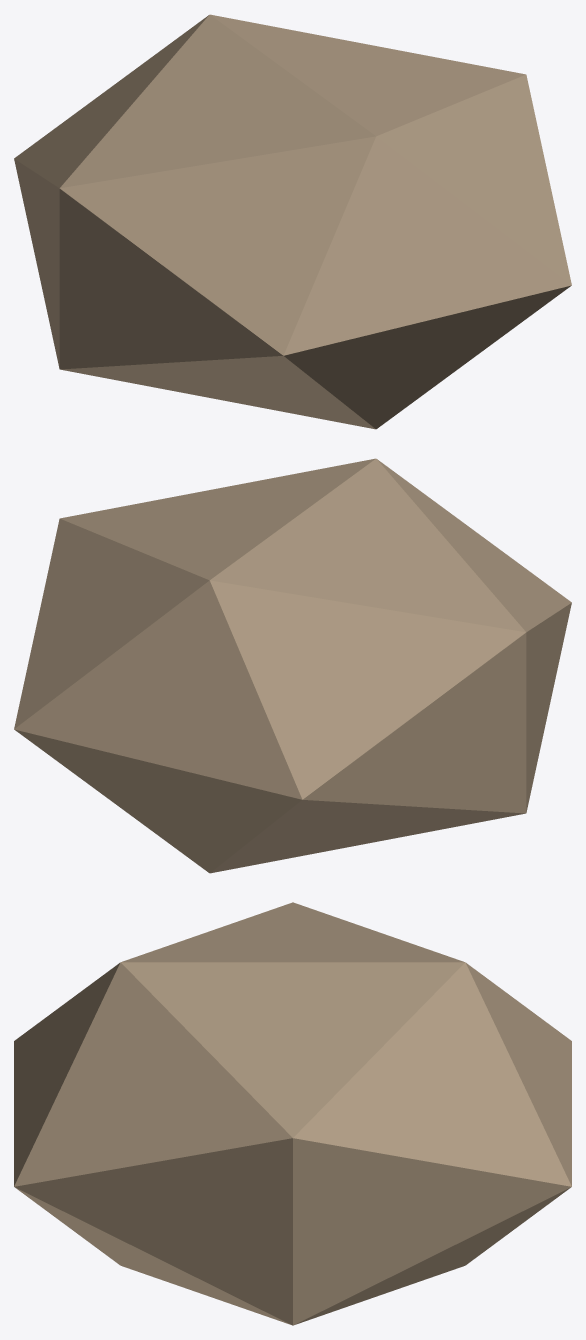
Rendered from w_fels_b.glb.
3 renders of one model, top to bottom at view 1: azimuth 30°, elevation 25°; view 2: azimuth 150°, elevation 25°; view 3: azimuth 270°, elevation 25°, orthographic. The views are drawn at different scales.
Visible parts, largest first — view 1: koerper; view 2: koerper; view 3: koerper.
Boxes of the visible parts, x1,y1,x2,y2 form: koerper: [14, 14, 571, 429]; koerper: [14, 458, 571, 873]; koerper: [14, 902, 571, 1325].
Size of the model in its own units: 2.48 by 1.49 by 2.48.
